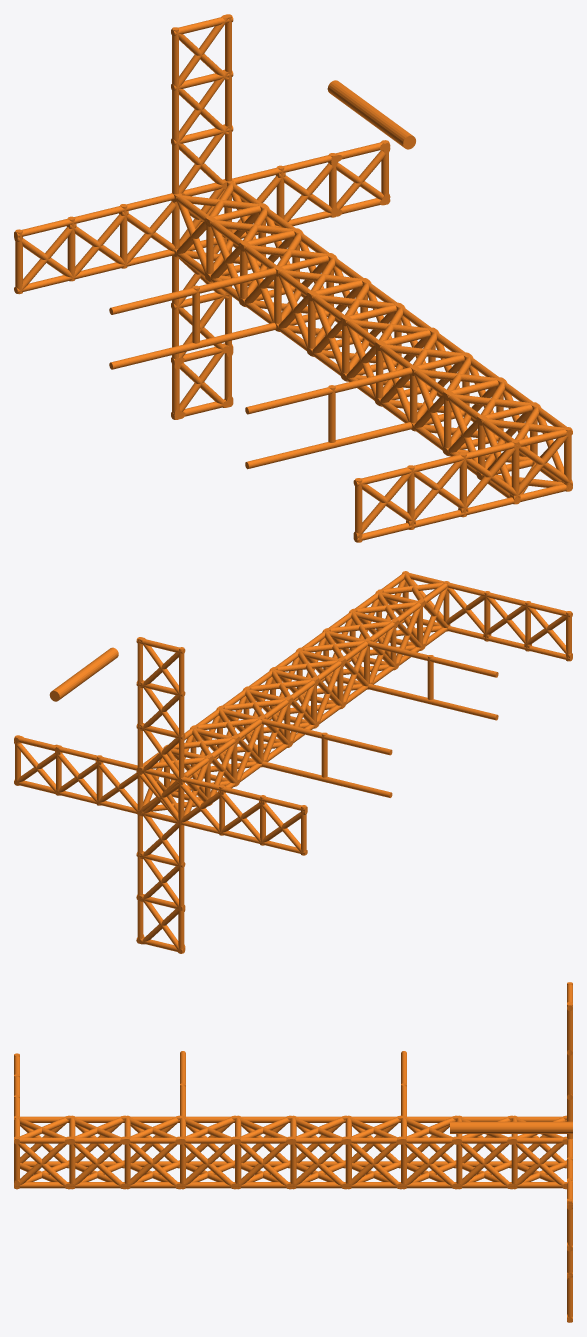
File: tinker.obj
The picture shows the model from 3 angles, top to bottom: view 1: azimuth 30°, elevation 25°; view 2: azimuth 150°, elevation 25°; view 3: azimuth 270°, elevation 25°; orthographic projection. The views are drawn at different scales.
Parts seen in each view (by area): view 1: obj_0; view 2: obj_0; view 3: obj_0.
Part boxes in pixels (x1,y1,x2,y2): obj_0: [14, 14, 572, 542]; obj_0: [14, 571, 572, 953]; obj_0: [14, 982, 572, 1322].
Bounding box in the file's own units: 58 × 57 × 91.
